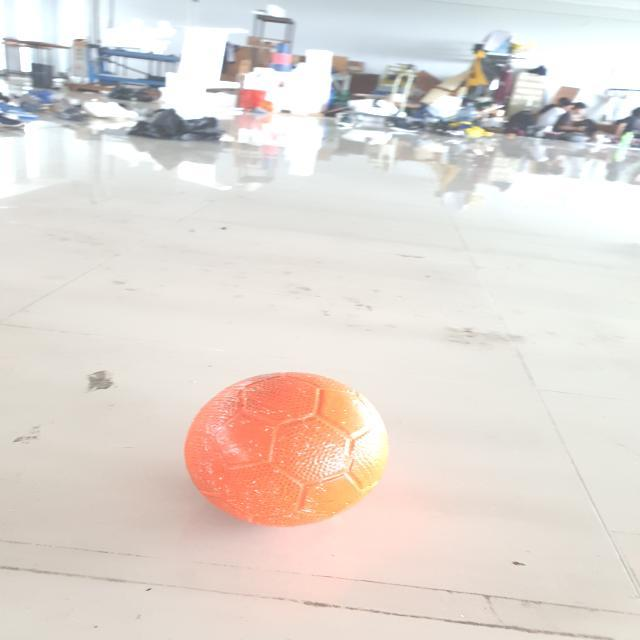bola: (180, 367, 394, 531)
